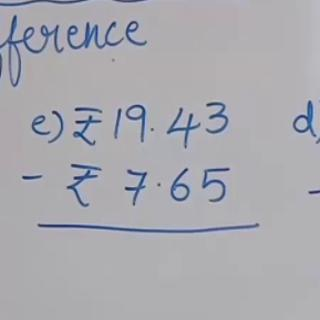.: (154, 180, 164, 189), (149, 123, 156, 134)
1: (111, 107, 123, 140)
3: (203, 102, 230, 135)
4: (165, 107, 200, 150)
5: (199, 167, 231, 206)
6: (167, 168, 194, 203)
7: (122, 167, 146, 205)
9: (126, 104, 147, 143)
